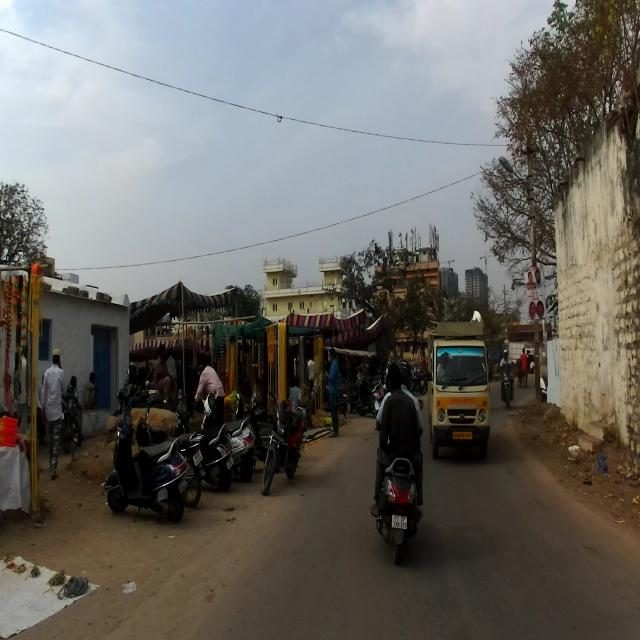car ahead at: (428, 319, 491, 457)
motorcycle ahead at: (100, 402, 190, 530), (368, 454, 425, 558), (260, 392, 306, 487)
person ahead at: (324, 337, 348, 444)
